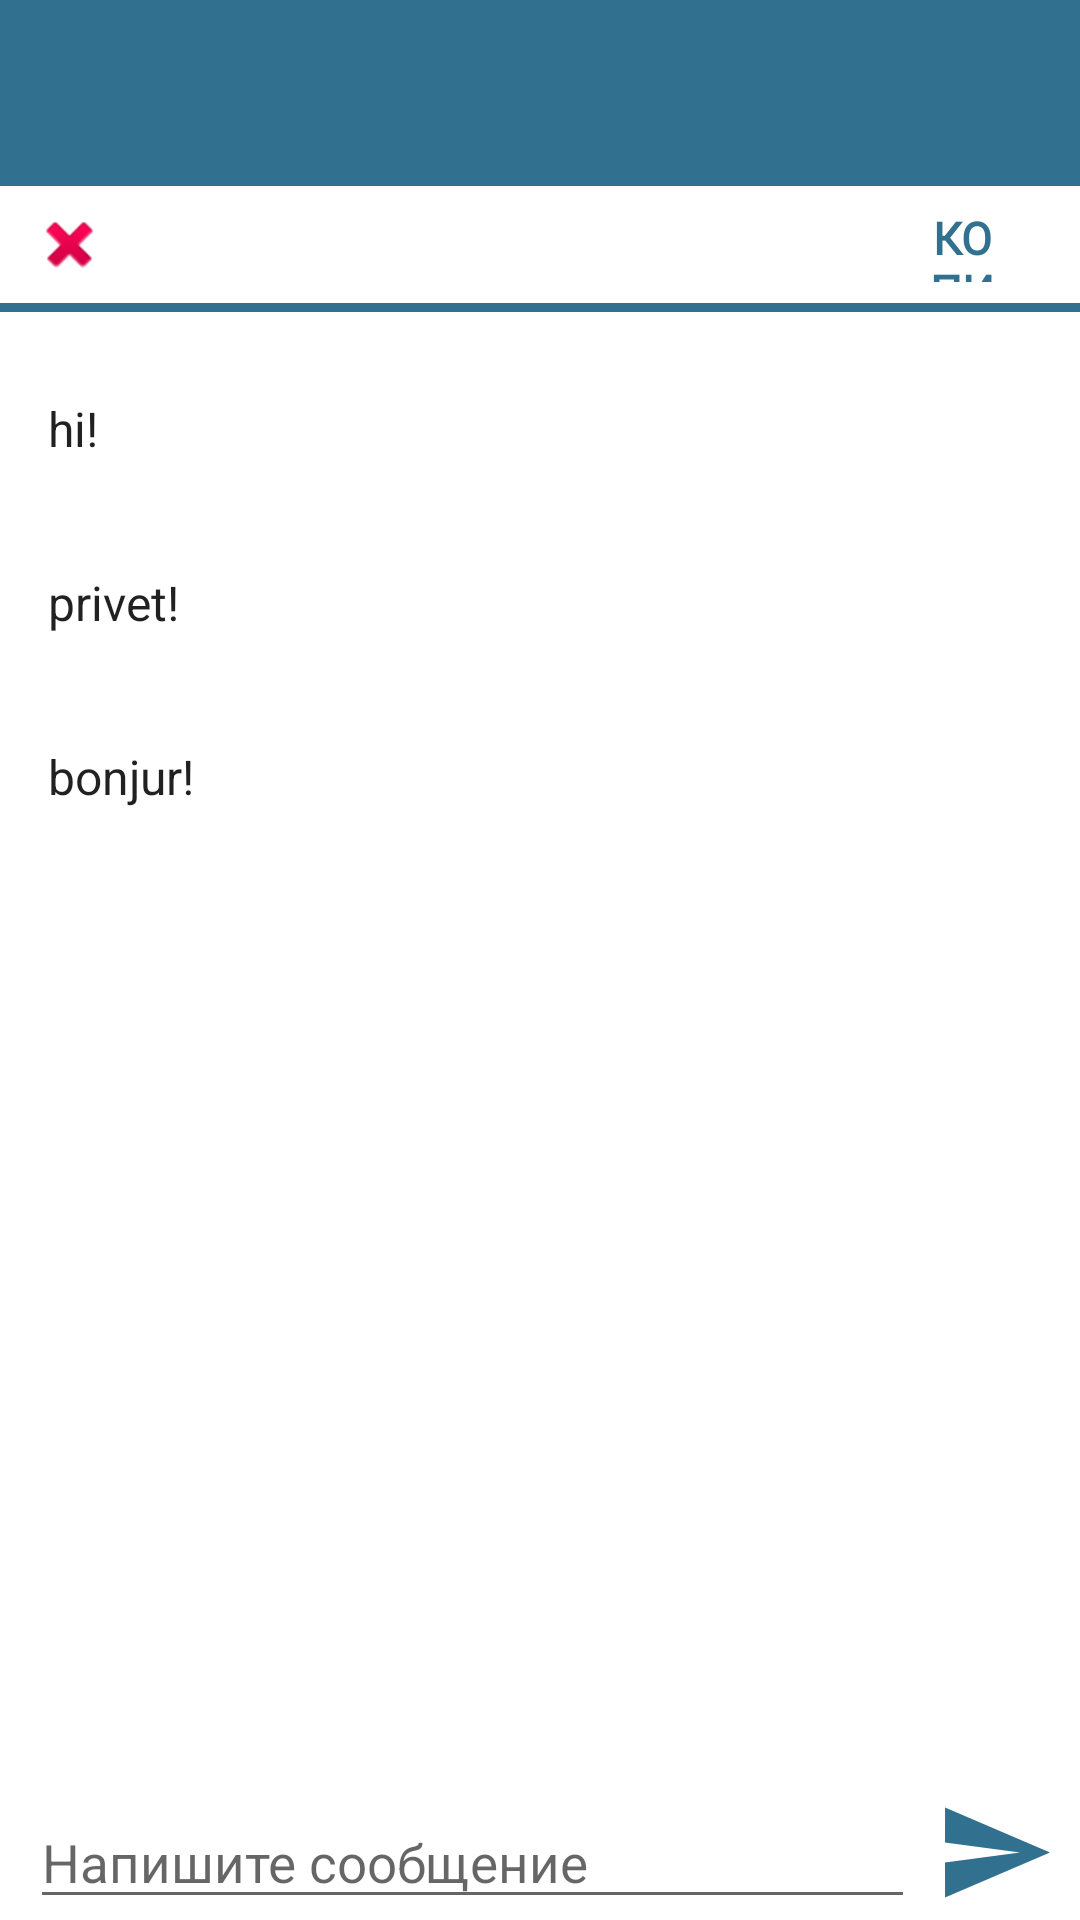

Icon bounding boxes for this 1080*1920 phone screenshot, format (x1, y1, x2, y2):
delete: (46, 222, 93, 268)
send: (945, 1807, 1050, 1898)
